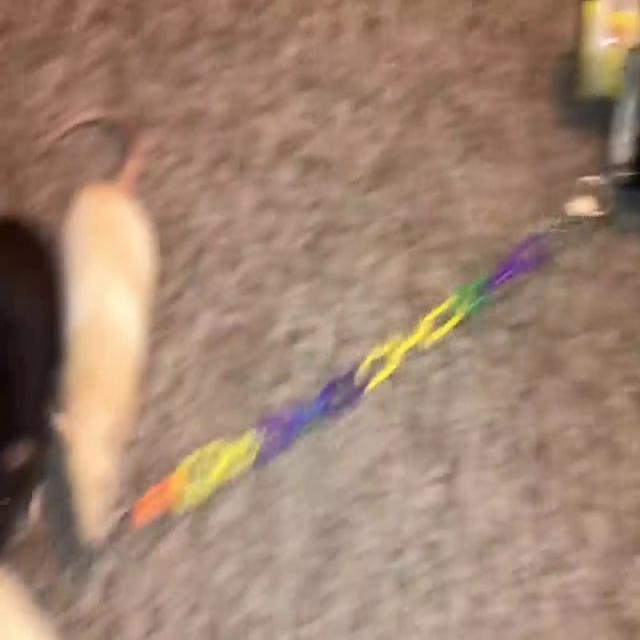rat: (41, 110, 161, 542)
